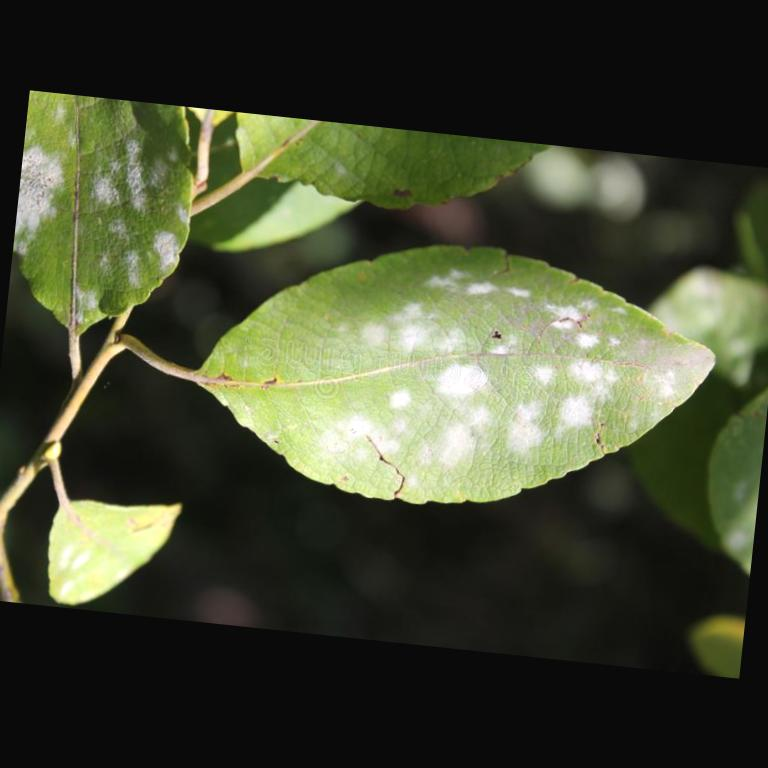powdery-mildew: (295, 380, 555, 485), (20, 125, 162, 270)
